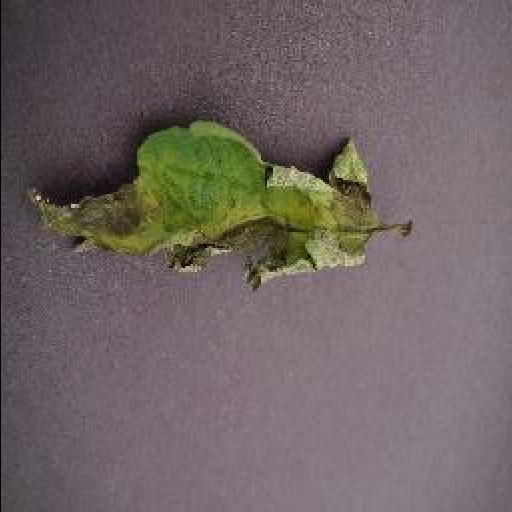disease_tomato: (25, 118, 375, 290)
